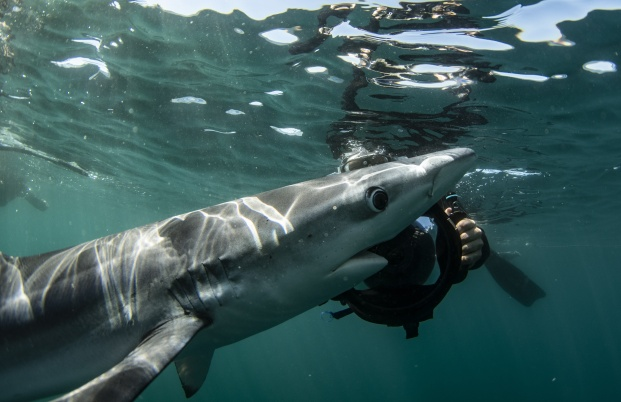Azul: (11, 126, 483, 402)
